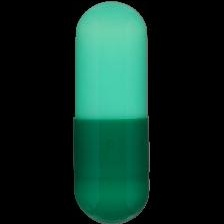0185-0613: (0, 0, 224, 224)
